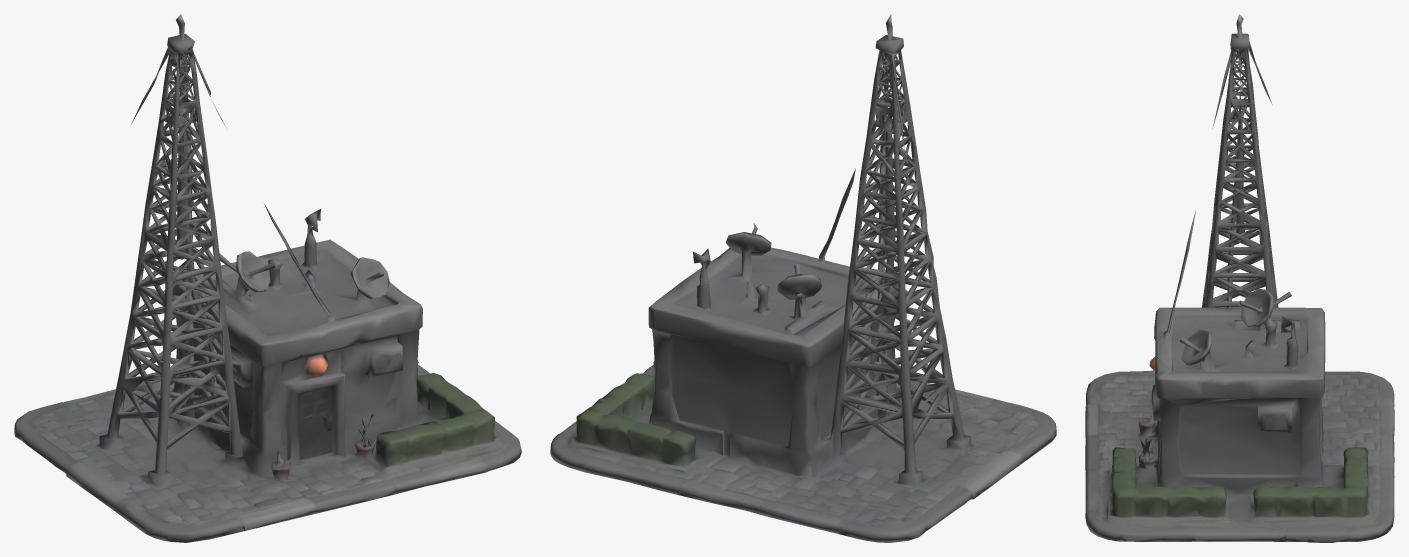
File: radio_station_mast.glb
3 views of the same model, side by side, from view 1: azimuth 30°, elevation 25°; view 2: azimuth 150°, elevation 25°; view 3: azimuth 270°, elevation 25° (orthographic). The views are drawn at different scales.
Visible parts, largest first — view 1: tripo_node_e0c131f1-9c2d-46ce-a5d8-ed87c8e45251; view 2: tripo_node_e0c131f1-9c2d-46ce-a5d8-ed87c8e45251; view 3: tripo_node_e0c131f1-9c2d-46ce-a5d8-ed87c8e45251.
Part boxes in pixels (x1,y1,x2,y2): tripo_node_e0c131f1-9c2d-46ce-a5d8-ed87c8e45251: (14, 14, 521, 542); tripo_node_e0c131f1-9c2d-46ce-a5d8-ed87c8e45251: (550, 14, 1056, 542); tripo_node_e0c131f1-9c2d-46ce-a5d8-ed87c8e45251: (1085, 14, 1394, 542).
Bounding box in the file's own units: 0.8641 × 1 × 0.6855.
1 material, 1 textured.
